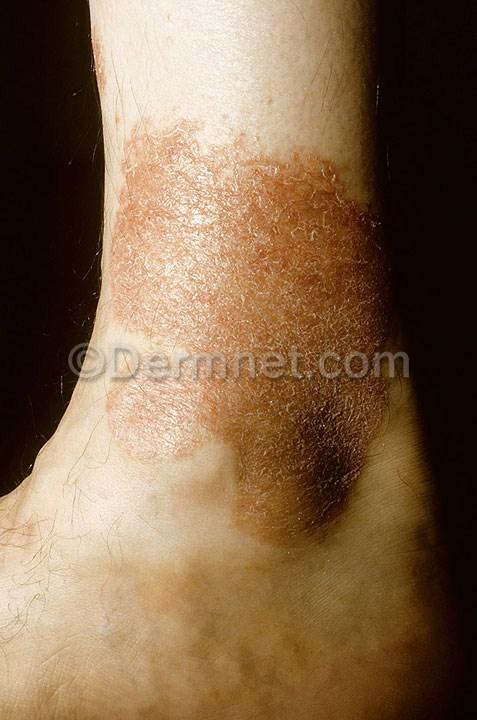Eczema: (106, 112, 398, 340), (173, 387, 403, 553)
